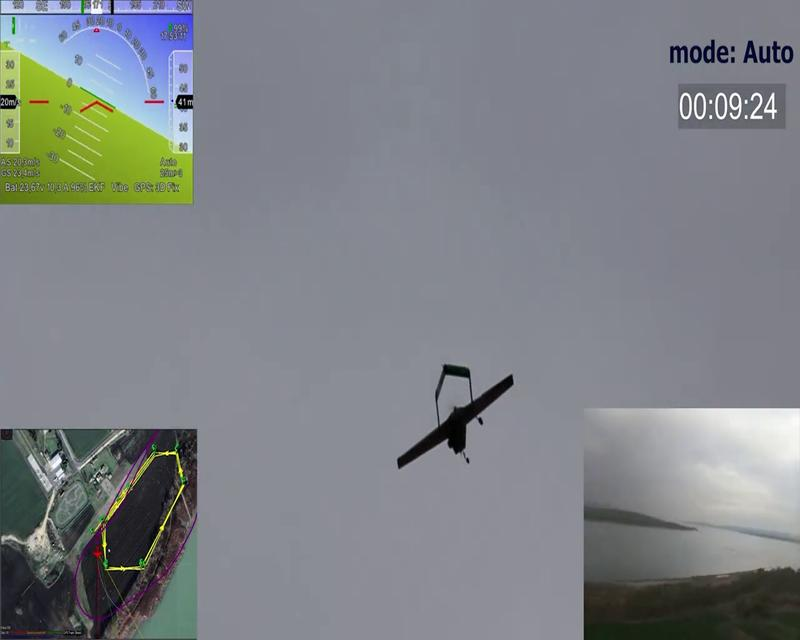UAV: (396, 363, 515, 470)
